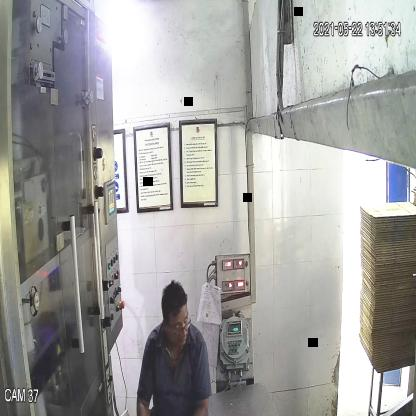goggles: (162, 313, 192, 338)
